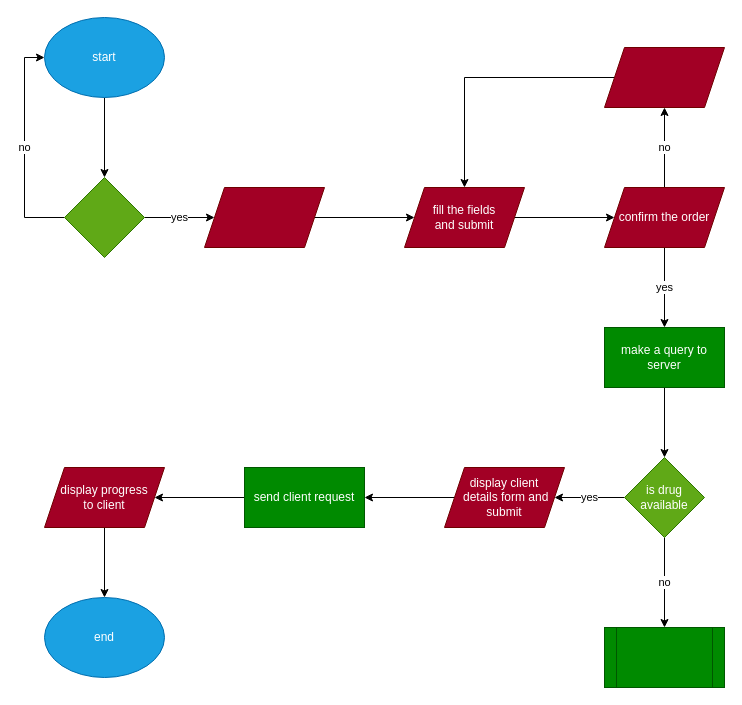
This 742x705 diagram has some shape labels left out. The centre of each missing label's shape, as x and y in pixels:
add new order: (x=664, y=77)
create an order: (x=104, y=217)
display order form: (x=264, y=217)
send SMS to client drug is not available: (x=664, y=657)
